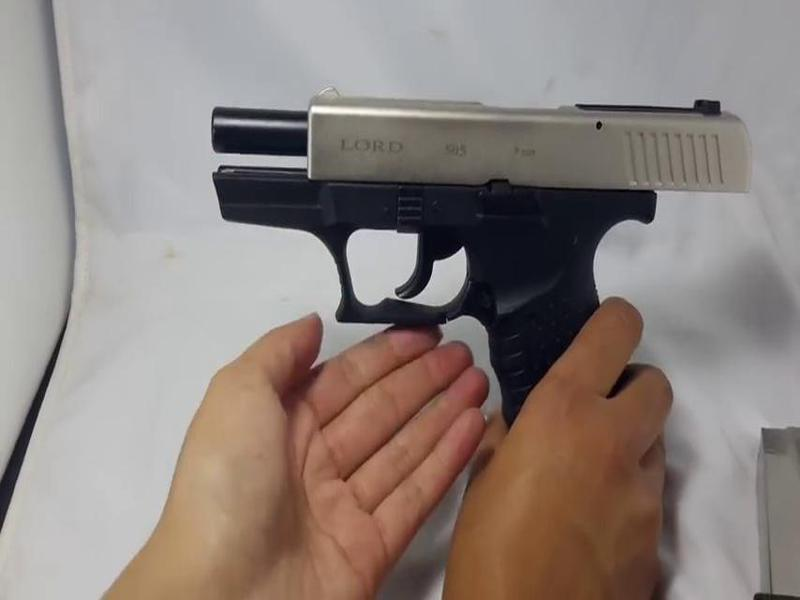Pistola: (174, 84, 735, 451)
